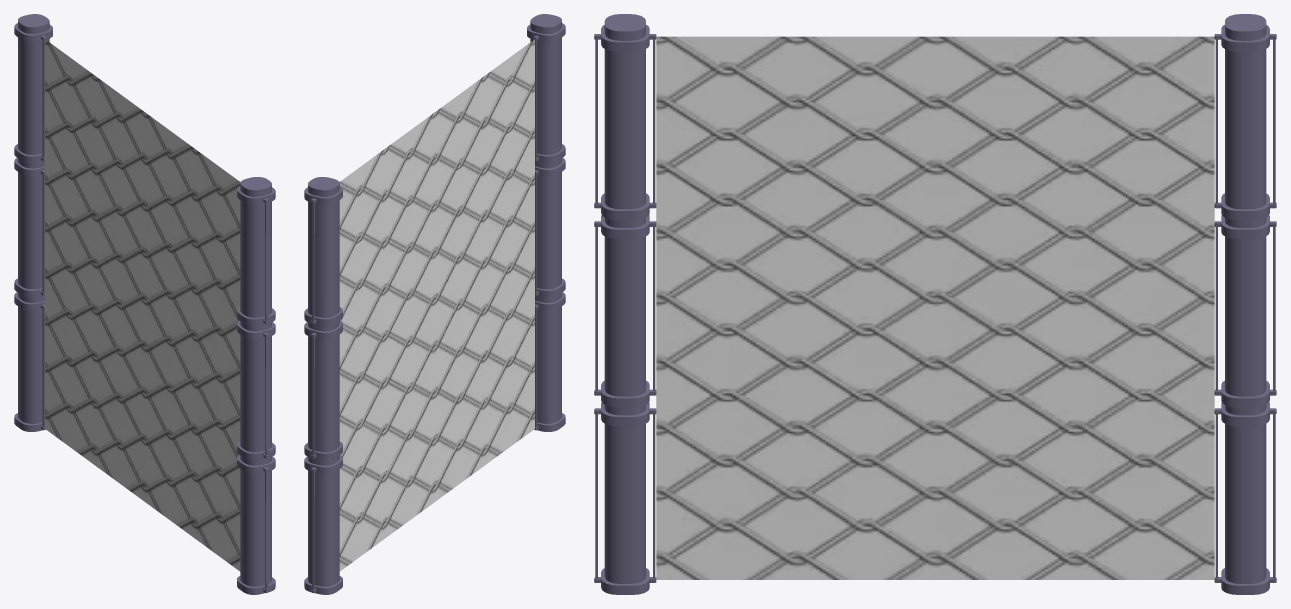
Rendered from grillage.001.fbx.
3 renders of one model, left to right at view 1: azimuth 30°, elevation 25°; view 2: azimuth 150°, elevation 25°; view 3: azimuth 270°, elevation 25°, orthographic. The views are drawn at different scales.
Parts seen in each view (by area): view 1: Plane, poteau; view 2: Plane, poteau; view 3: Plane, poteau.
Boxes of the visible parts, <box> form: Plane: <box>45,39,240,571</box>; poteau: <box>14,14,275,594</box>; Plane: <box>339,39,534,571</box>; poteau: <box>304,14,565,594</box>; Plane: <box>656,36,1214,579</box>; poteau: <box>594,14,1276,594</box>.
Bounding box in the file's own units: 660 × 47.07 × 600.
Materials: 2 (1 with a texture image).
